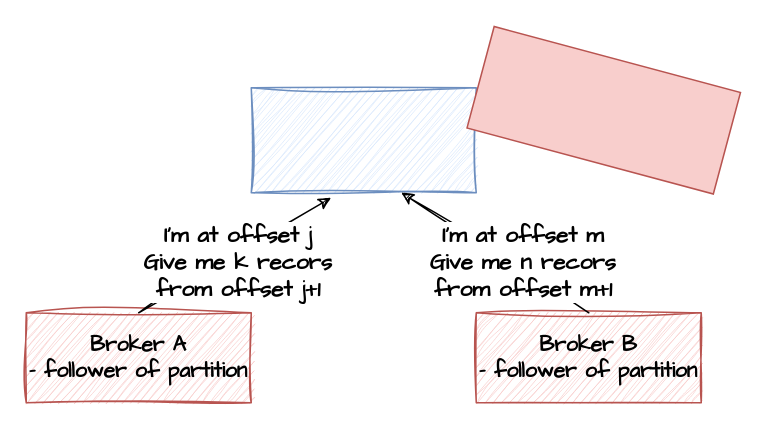
Some shapes in this 768 by 429 pixel diagram are drawn without their labels. Here are the shapes that lost their labels. From the top down, the centre of each, then its label:
the point at 603,109: Follower A: offset j Follower B: offset m HWM = min(j,m)
the point at 363,139: Broker - leader of partition
